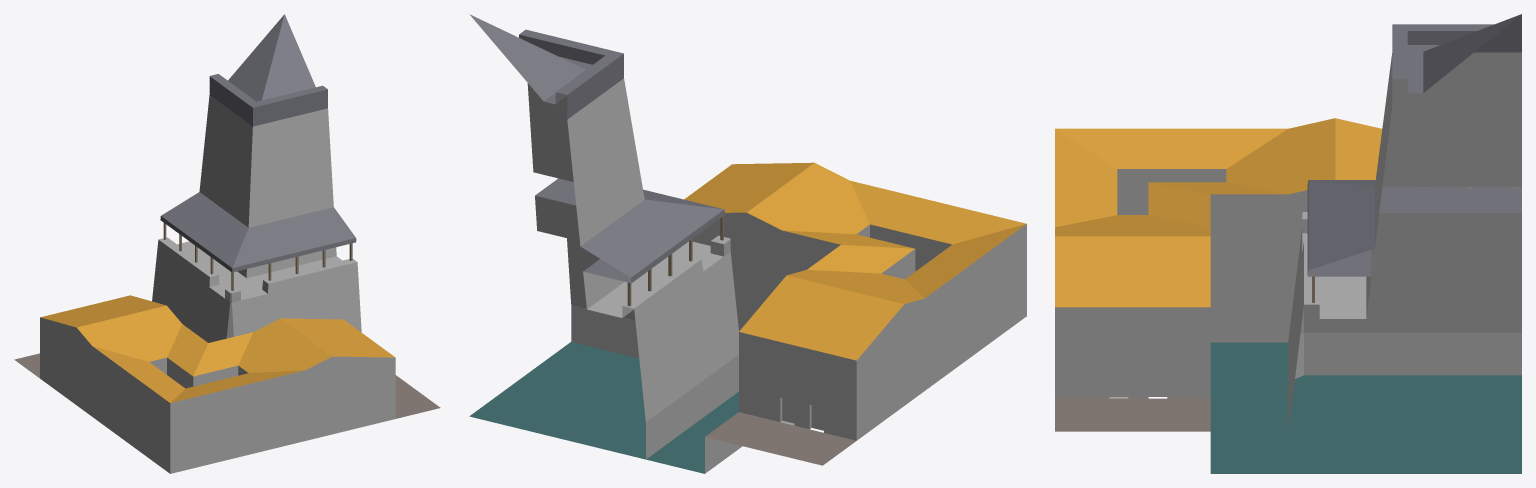
The model's file is rcr2.obj.
3 views of the same model, side by side, from view 1: azimuth 30°, elevation 25°; view 2: azimuth 150°, elevation 25°; view 3: azimuth 270°, elevation 25° (orthographic). The views are drawn at different scales.
Visible parts, largest first — view 1: rcr2; view 2: rcr2; view 3: rcr2.
Part boxes in pixels (box(x1,y1,x2,y2)): rcr2: box(14, 14, 440, 473); rcr2: box(469, 14, 1026, 473); rcr2: box(1055, 14, 1521, 473).
Size of the model in its own units: 30 by 32.63 by 30.
